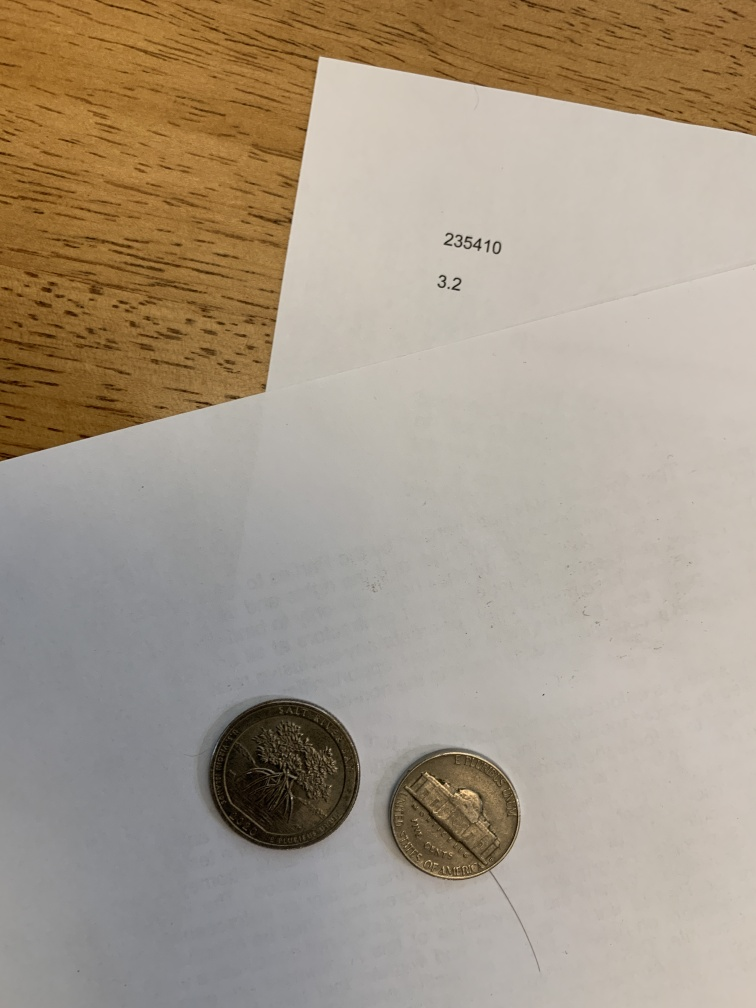nickel: (382, 741, 527, 884)
quarter: (201, 693, 369, 857)
